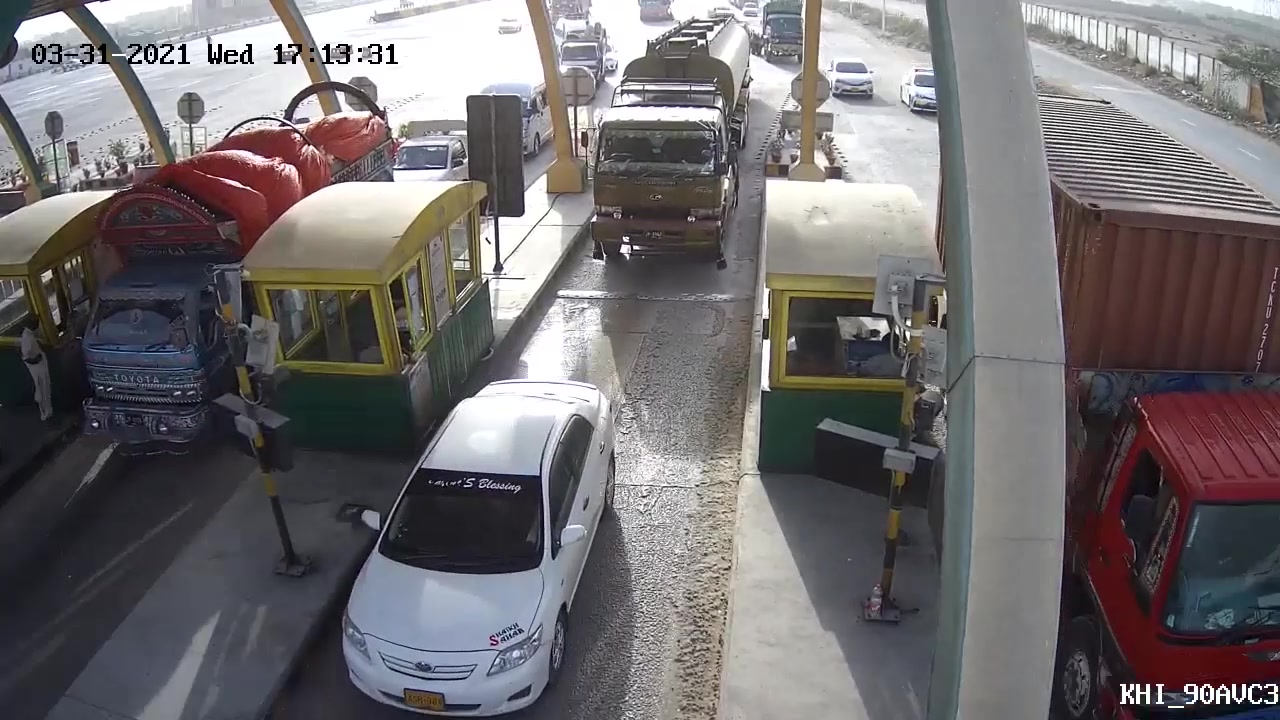F1: (339, 370, 634, 713)
F6: (587, 11, 755, 268)
